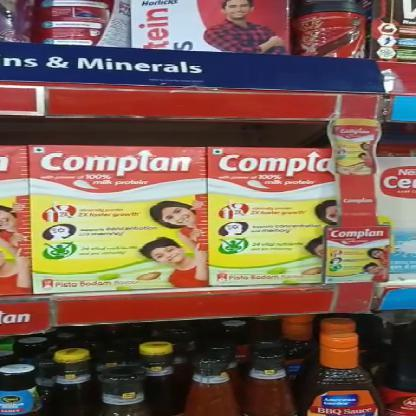Complan Pista Badam: (29, 144, 207, 292), (210, 146, 343, 286)
